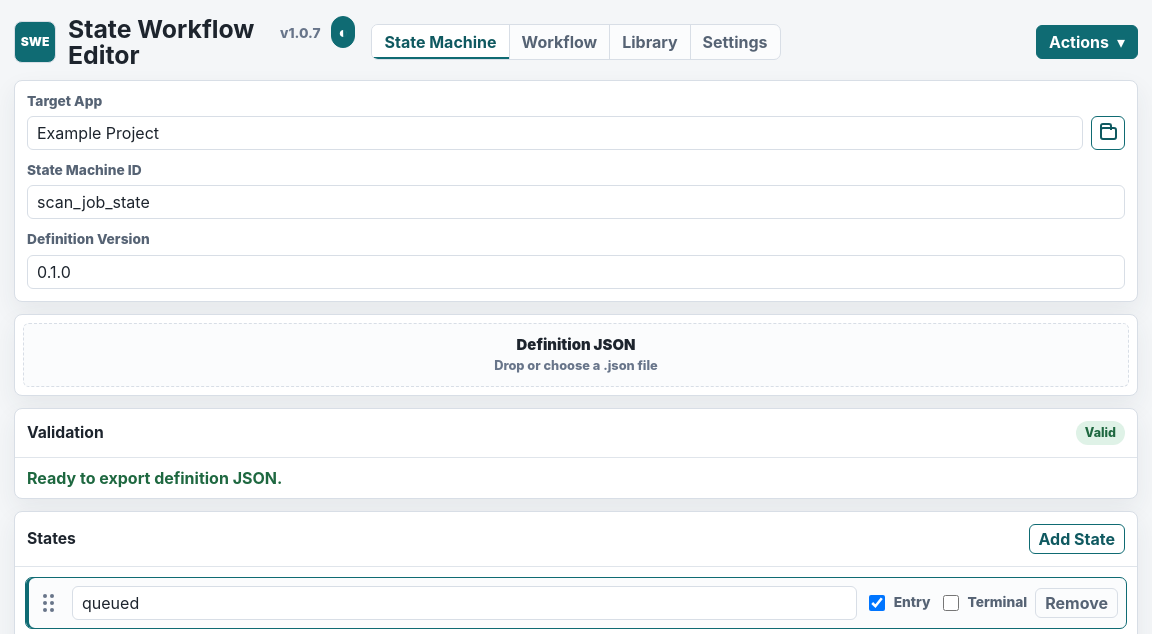
Scenario: App › loads saved strict 1.0.0 Library bundles through compatibility normalization
Click the button "Library": x=650, y=42 [610,25,691,59]
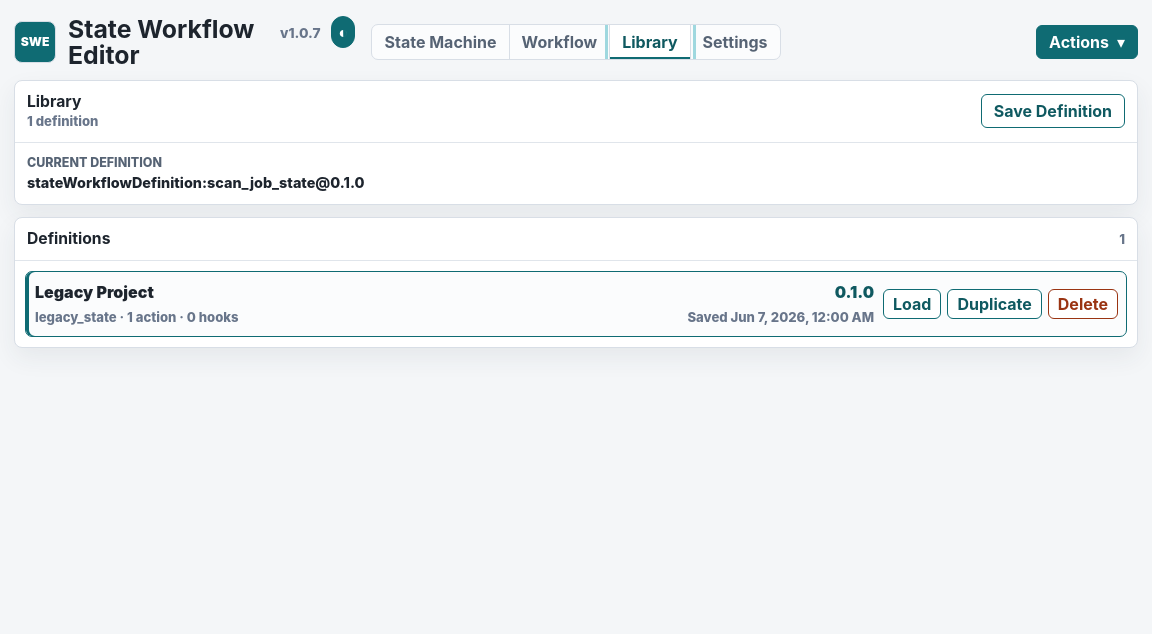
Now the text "Legacy Project" is shown, box [35,282,154,302]
Click the button "Load": x=912, y=304 [883,289,941,319]
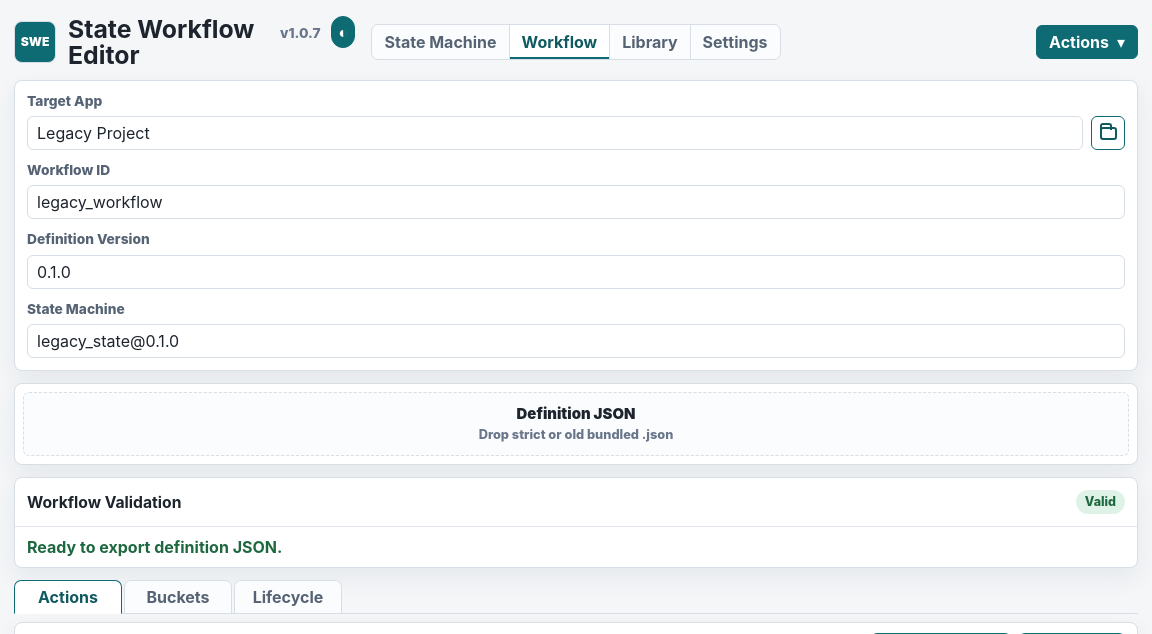
Now the field labelled "Workflow ID" holds "legacy_workflow", box [27,186,1125,220]
Now the field labelled "State Machine" holds "legacy_state@0.1.0", box [27,324,1125,358]
